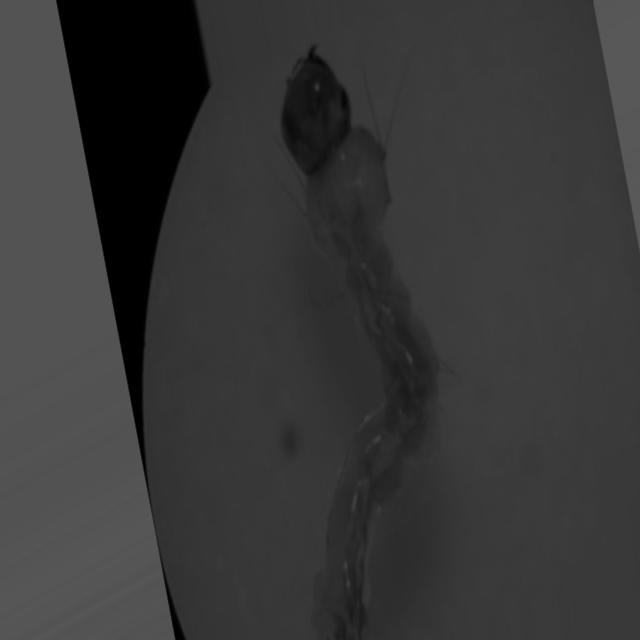larvas: (286, 55, 433, 640)
